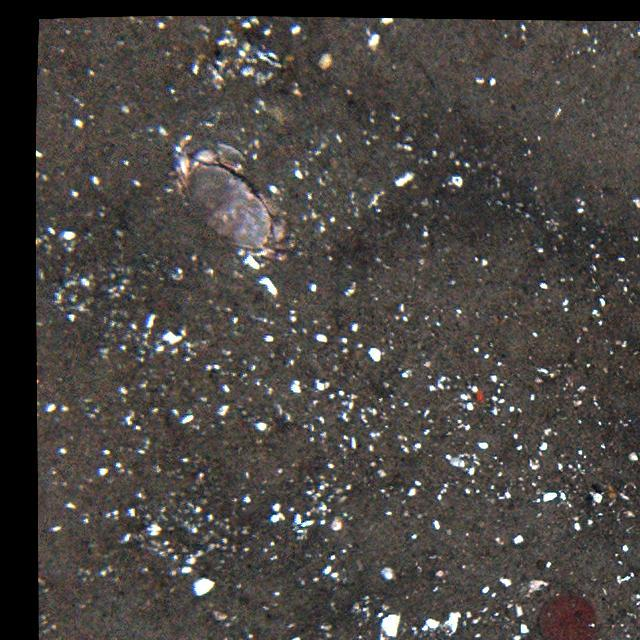crab: (163, 128, 290, 261)
